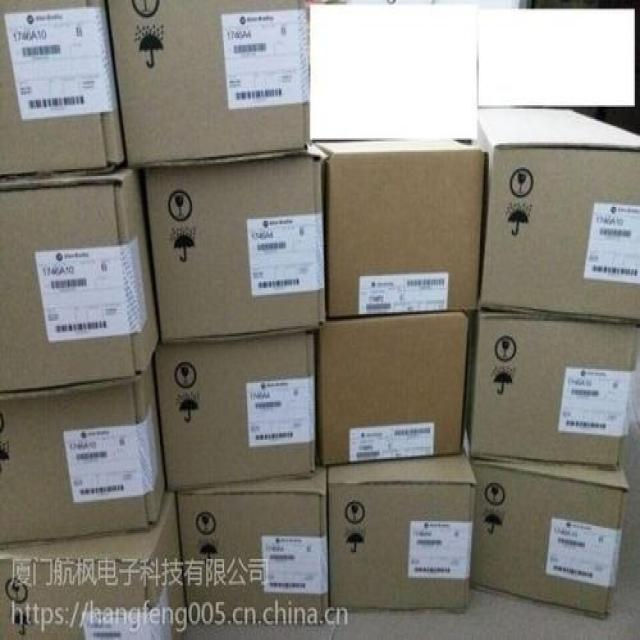box: (1, 169, 161, 392), (145, 147, 326, 342), (109, 0, 312, 169), (476, 109, 637, 321), (312, 136, 483, 326), (0, 359, 168, 543), (0, 492, 184, 640), (467, 312, 635, 471), (156, 331, 314, 492), (471, 464, 628, 619), (329, 449, 477, 611), (174, 469, 329, 621), (319, 311, 470, 466), (0, 2, 128, 179)
